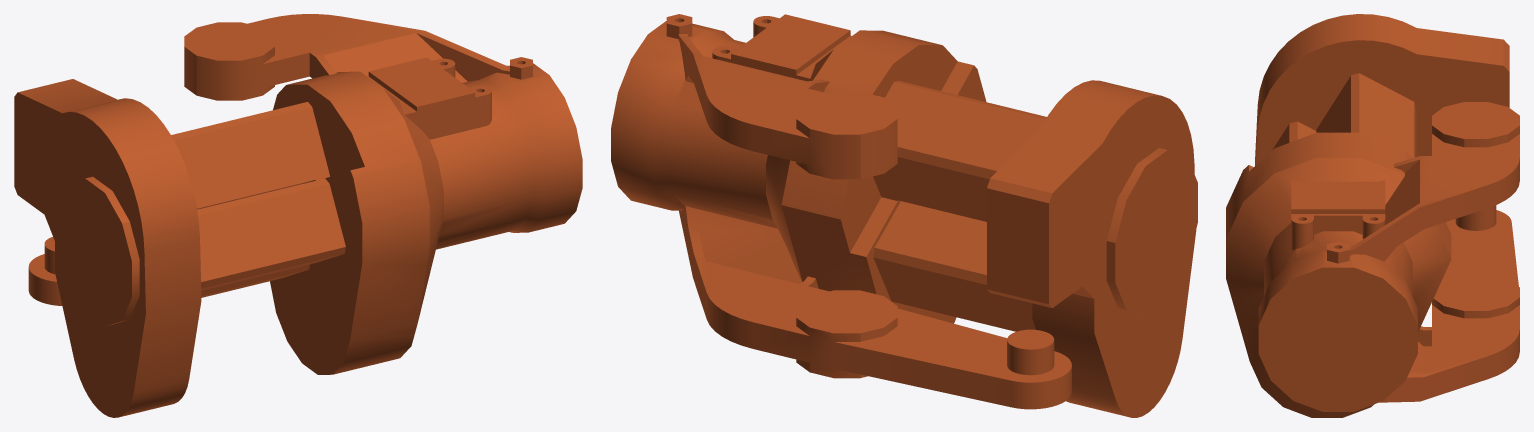
3 views of the same model, side by side, from view 1: azimuth 30°, elevation 25°; view 2: azimuth 150°, elevation 25°; view 3: azimuth 270°, elevation 25° (orthographic). The views are drawn at different scales.
Visible parts, largest first — view 1: Link_3; view 2: Link_3; view 3: Link_3.
Boxes of the visible parts, bbox=[...] form: Link_3: bbox=[14, 14, 582, 417]; Link_3: bbox=[611, 14, 1197, 417]; Link_3: bbox=[1226, 14, 1519, 417].
Size of the model in its own units: 0.4895 by 0.2994 by 0.288.
